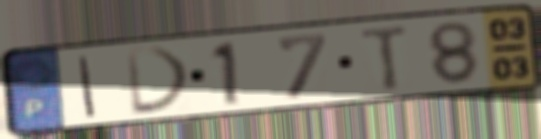1: (207, 39, 242, 108)
7: (274, 29, 331, 102)
8: (422, 19, 482, 85)
D: (122, 44, 195, 118)
I: (75, 54, 99, 119)
T: (358, 22, 413, 94)
